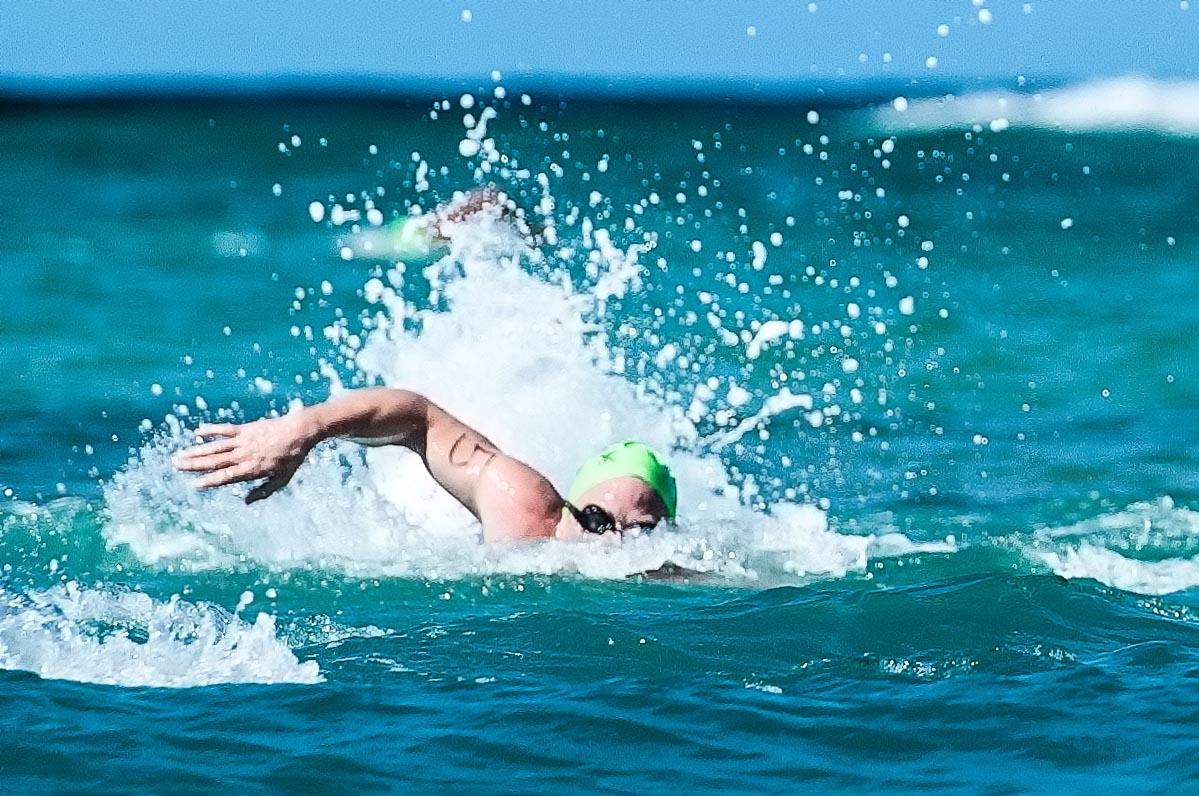human: (175, 387, 685, 575)
